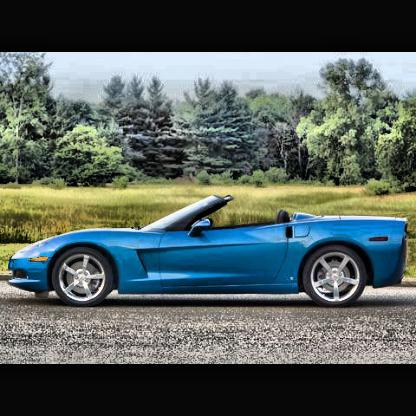Chevrolet Corvette Convertible 2012: (11, 197, 409, 308)
